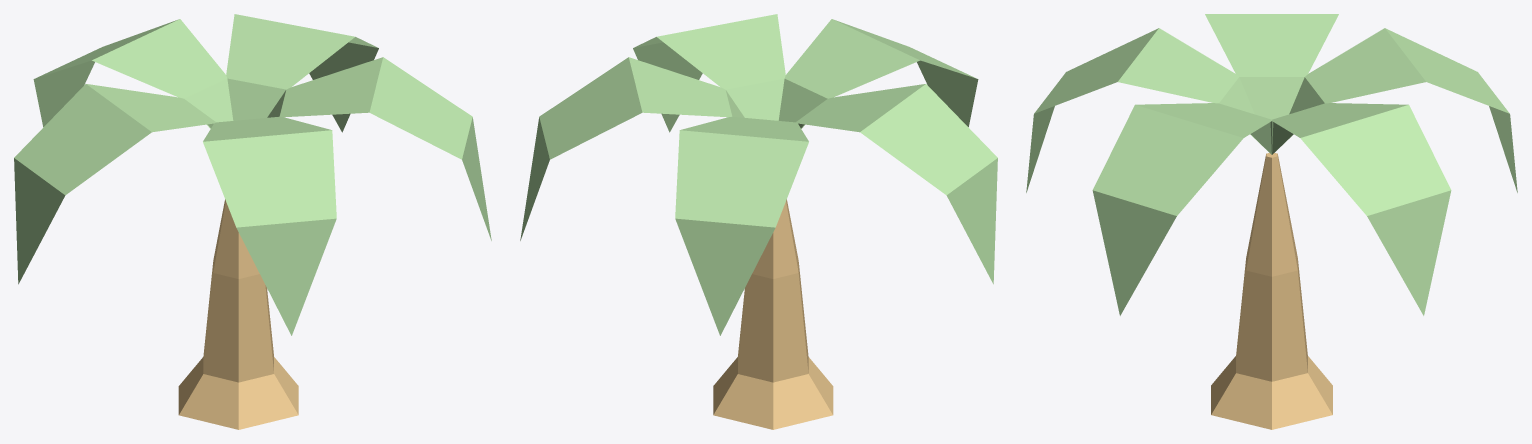
File: palm.fbx
The picture shows the model from 3 angles, left to right: view 1: azimuth 30°, elevation 25°; view 2: azimuth 150°, elevation 25°; view 3: azimuth 270°, elevation 25°; orthographic projection.
Visible parts, largest first — view 1: Palm; view 2: Palm; view 3: Palm.
Boxes of the visible parts, <box> form: Palm: <box>14,14,491,429</box>; Palm: <box>520,14,997,429</box>; Palm: <box>1026,14,1517,429</box>.
Bounding box in the file's own units: 289 × 218 × 297.
